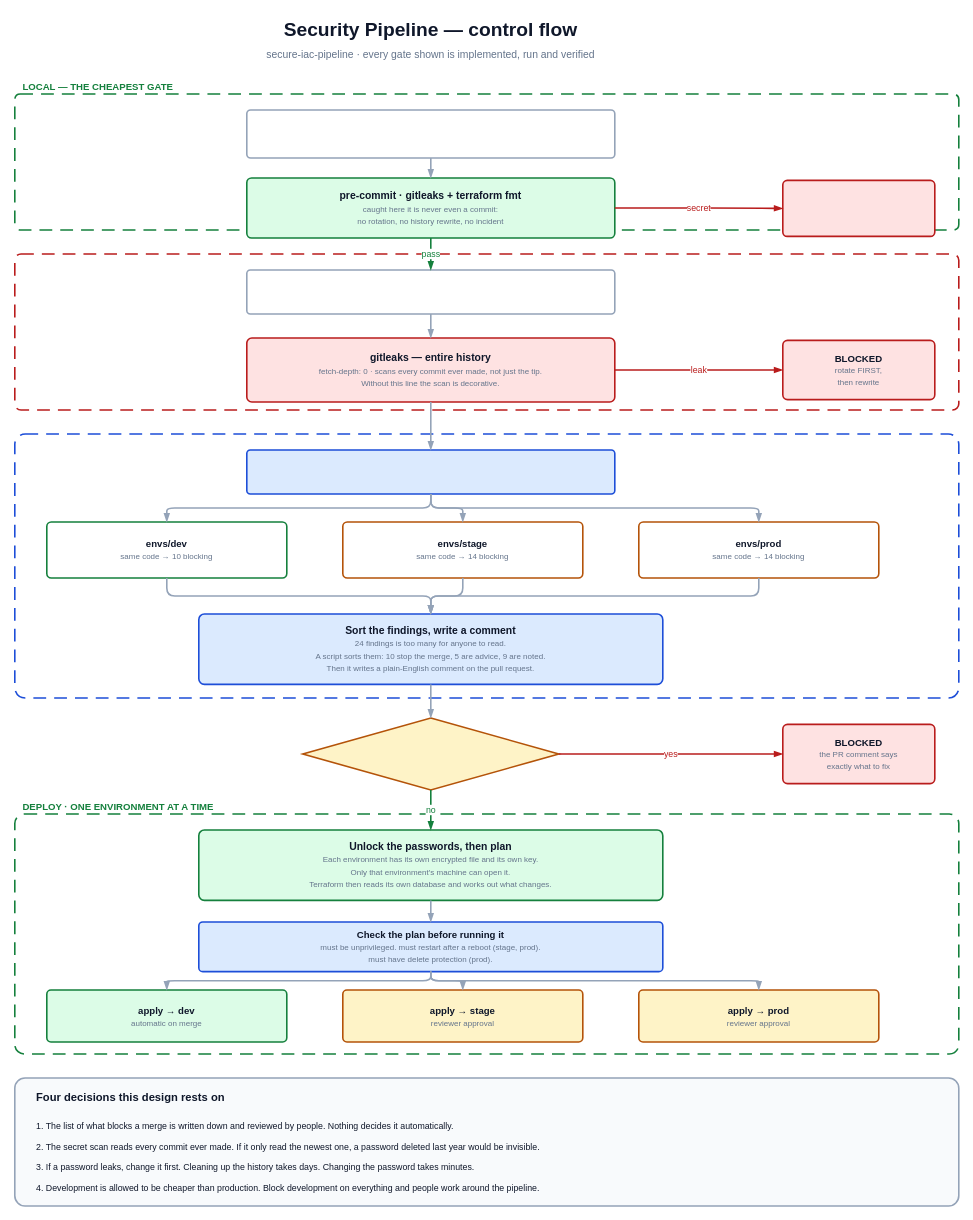
This 973x1220 diagram has some shape labels left out. The shapes that lost their labels are listed below. From the top down, each one's box as (x1, y1, x2, y2) in pixels, then its label:
(246, 109, 615, 158): Developer edits Terraform
(782, 179, 935, 237): Fix locally before it is even a commit
(246, 269, 615, 314): Push / open pull request
(14, 253, 959, 410): CI GATE 1 · SECRETS — RUNS FIRST AND ALONE
(246, 449, 615, 494): Checkov · matrix over three environments
(14, 433, 959, 698): CI GATE 2 · INFRASTRUCTURE AS CODE, PER ENVIRONMENT
(302, 717, 559, 790): blocking findings?
